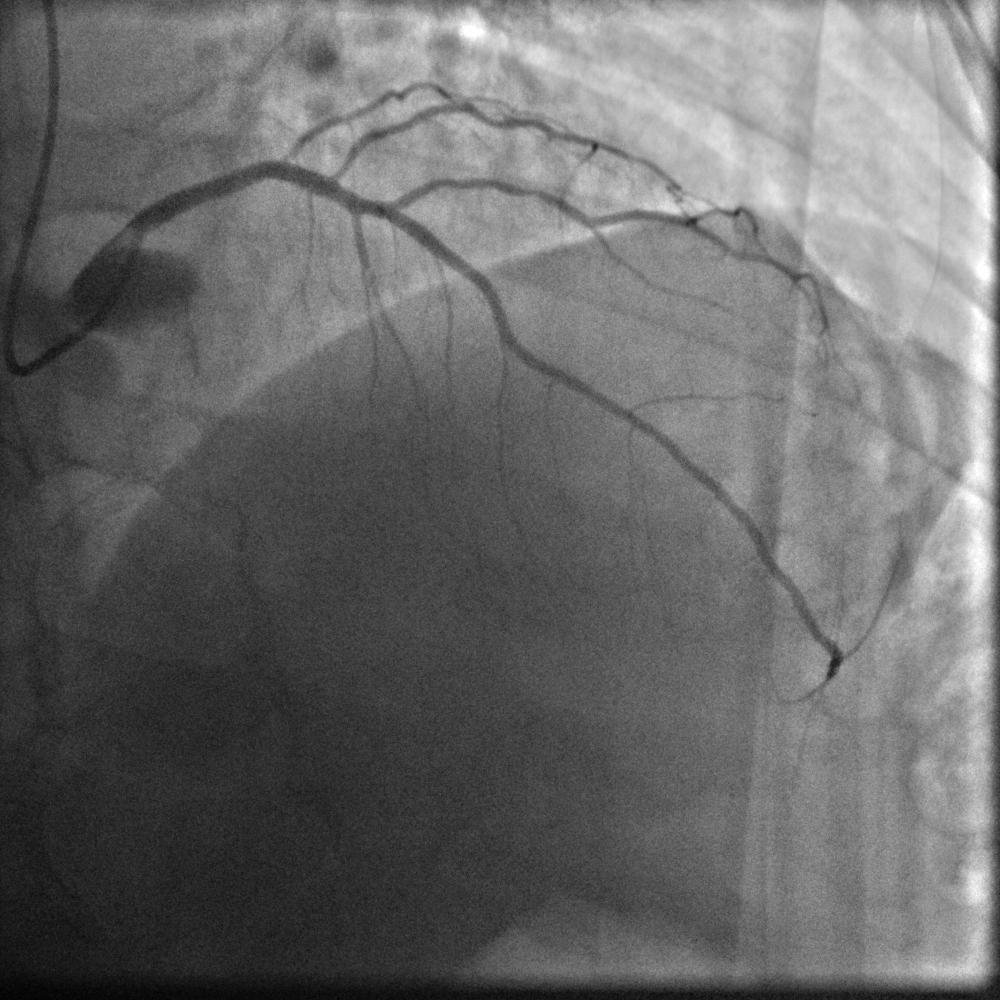Stenosis: (278, 123, 352, 190)
